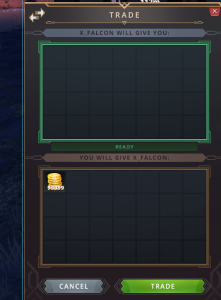gold: (43, 169, 65, 191)
